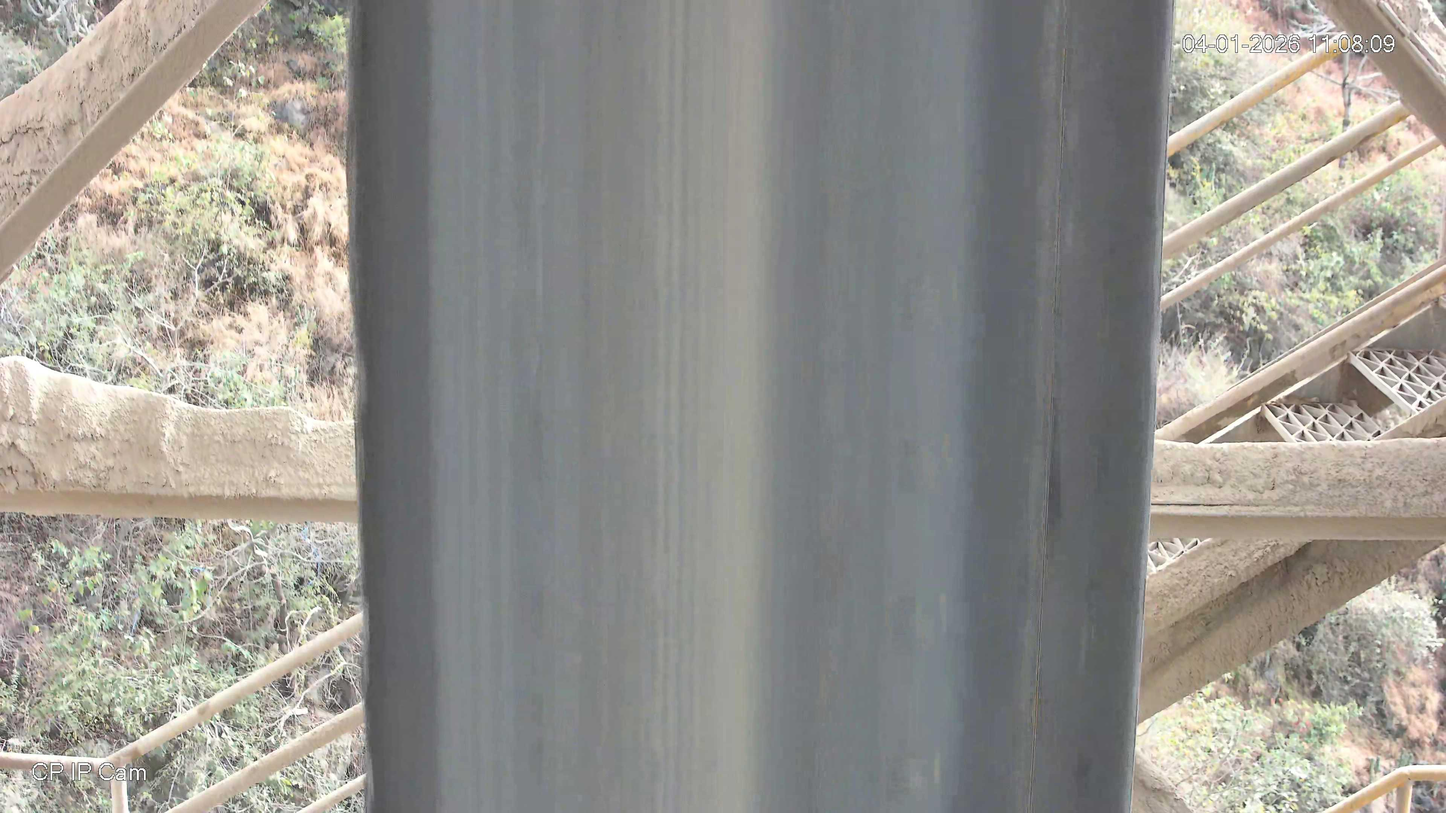belt_roi: (348, 0, 1176, 813)
